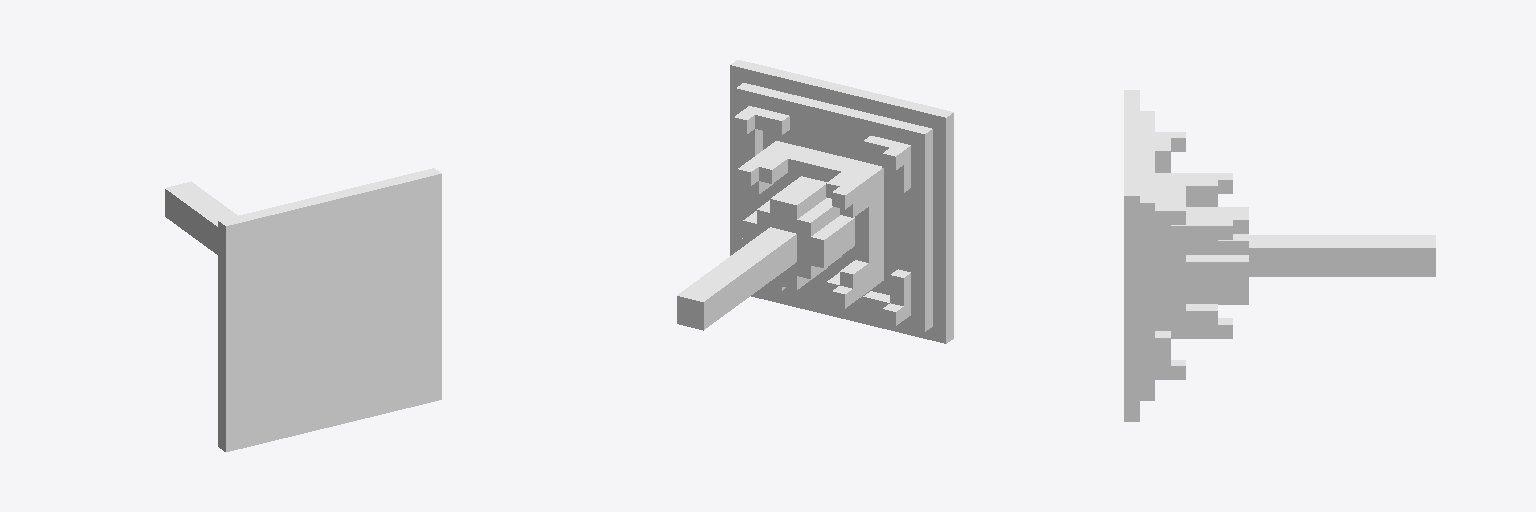
The model's file is Ilumination-12.obj.
3 views of the same model, side by side, from view 1: azimuth 30°, elevation 25°; view 2: azimuth 150°, elevation 25°; view 3: azimuth 270°, elevation 25° (orthographic).
Visible parts, largest first — view 1: object 1; view 2: object 1; view 3: object 1.
Boxes of the visible parts, x1=… form: object 1: x1=165, y1=168, x2=441, y2=451; object 1: x1=677, y1=60, x2=953, y2=343; object 1: x1=1124, y1=90, x2=1435, y2=421.
Bounding box in the file's own units: 1.6 × 1.6 × 2.